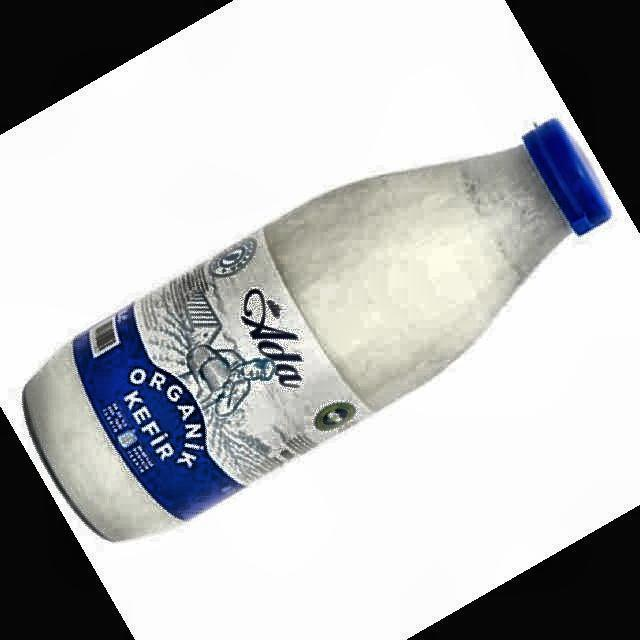plastic: (25, 119, 611, 541)
